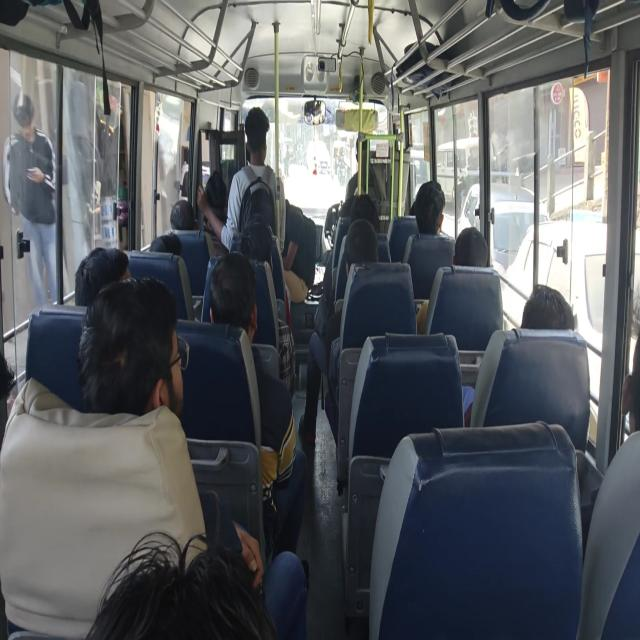person: (208, 248, 300, 561), (82, 531, 278, 639), (318, 197, 396, 451), (472, 282, 580, 433), (76, 274, 180, 420), (220, 105, 279, 258), (419, 222, 486, 339), (146, 218, 204, 324), (74, 244, 130, 308), (198, 169, 230, 254), (520, 285, 576, 332), (622, 321, 640, 438), (410, 180, 446, 236), (453, 225, 489, 267), (348, 193, 379, 232), (170, 199, 196, 231), (149, 232, 183, 256), (338, 190, 356, 220)
